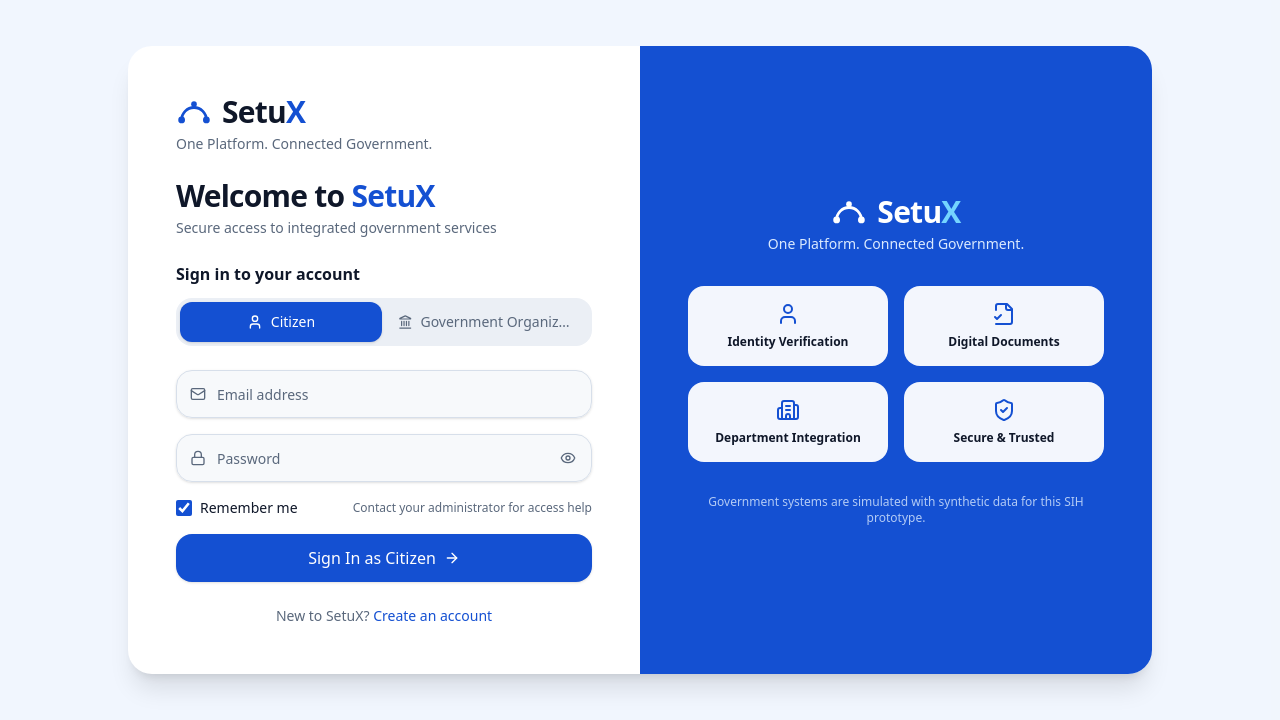
Test: LoginPage › switches the submit label with the selected account type
Expected: the button "Sign In as Citizen" is shown, [176,534,592,582]
Click the tab "Government Organization": (487, 322) [386,302,588,342]
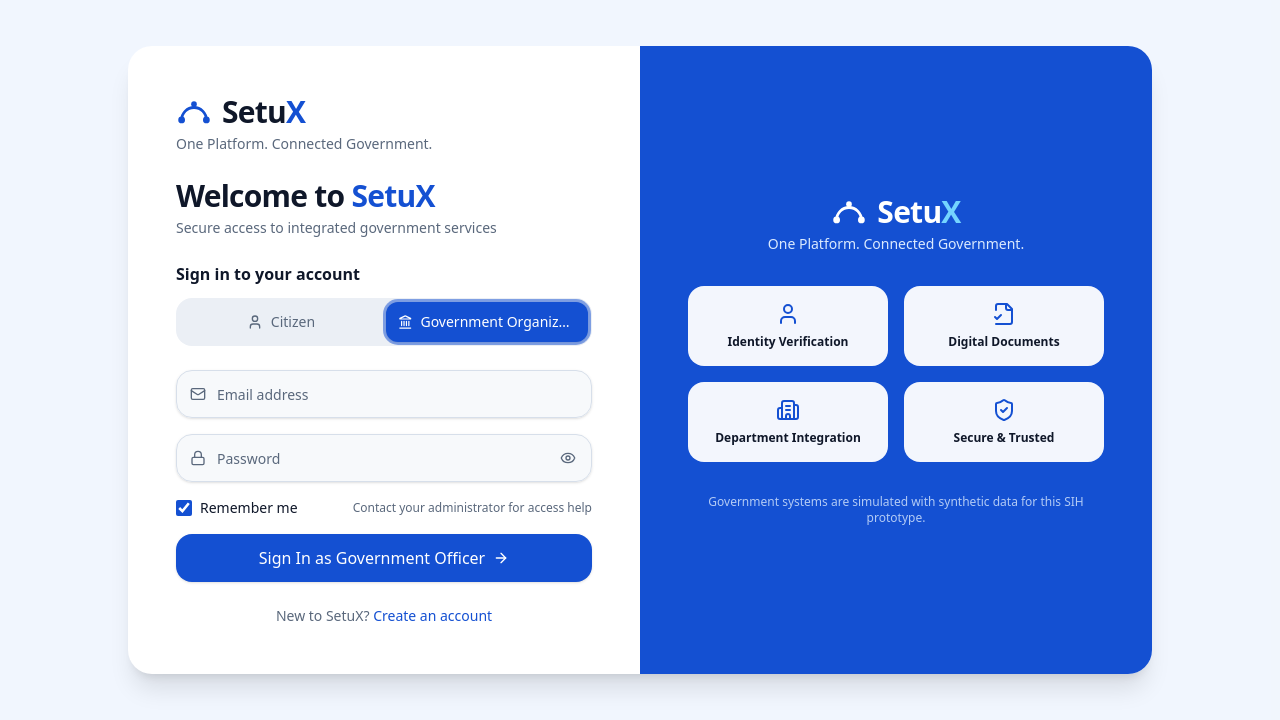
Result: the button "Sign In as Government Officer" is shown at [176,534,592,582]
